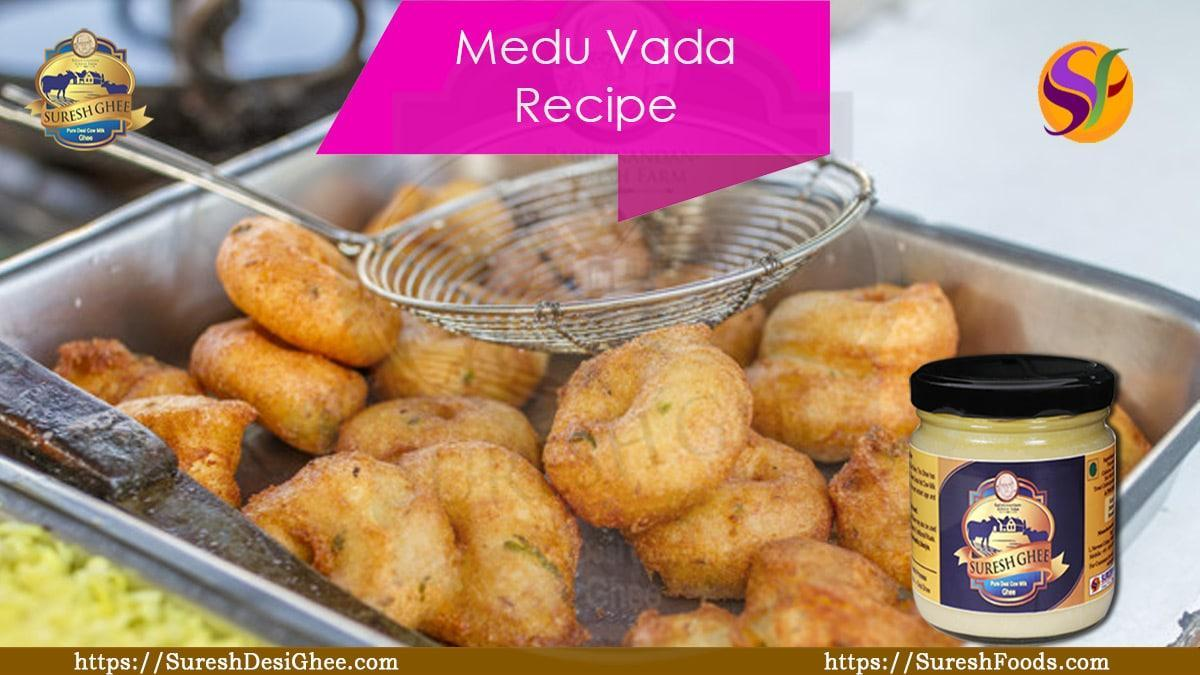mvada: (569, 375, 812, 541), (221, 237, 368, 485)
